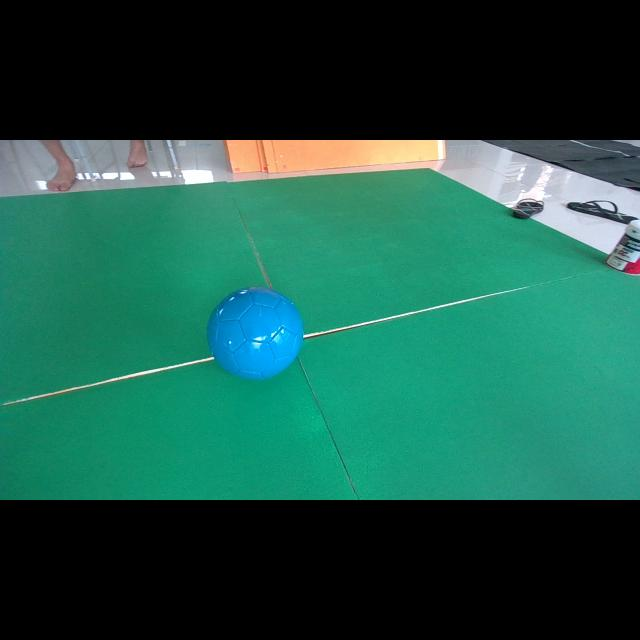B: (208, 288, 304, 379)
